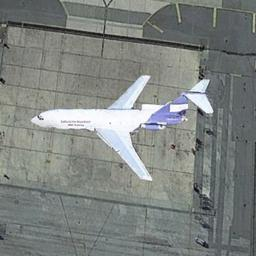Airplane: (30, 73, 213, 181)
